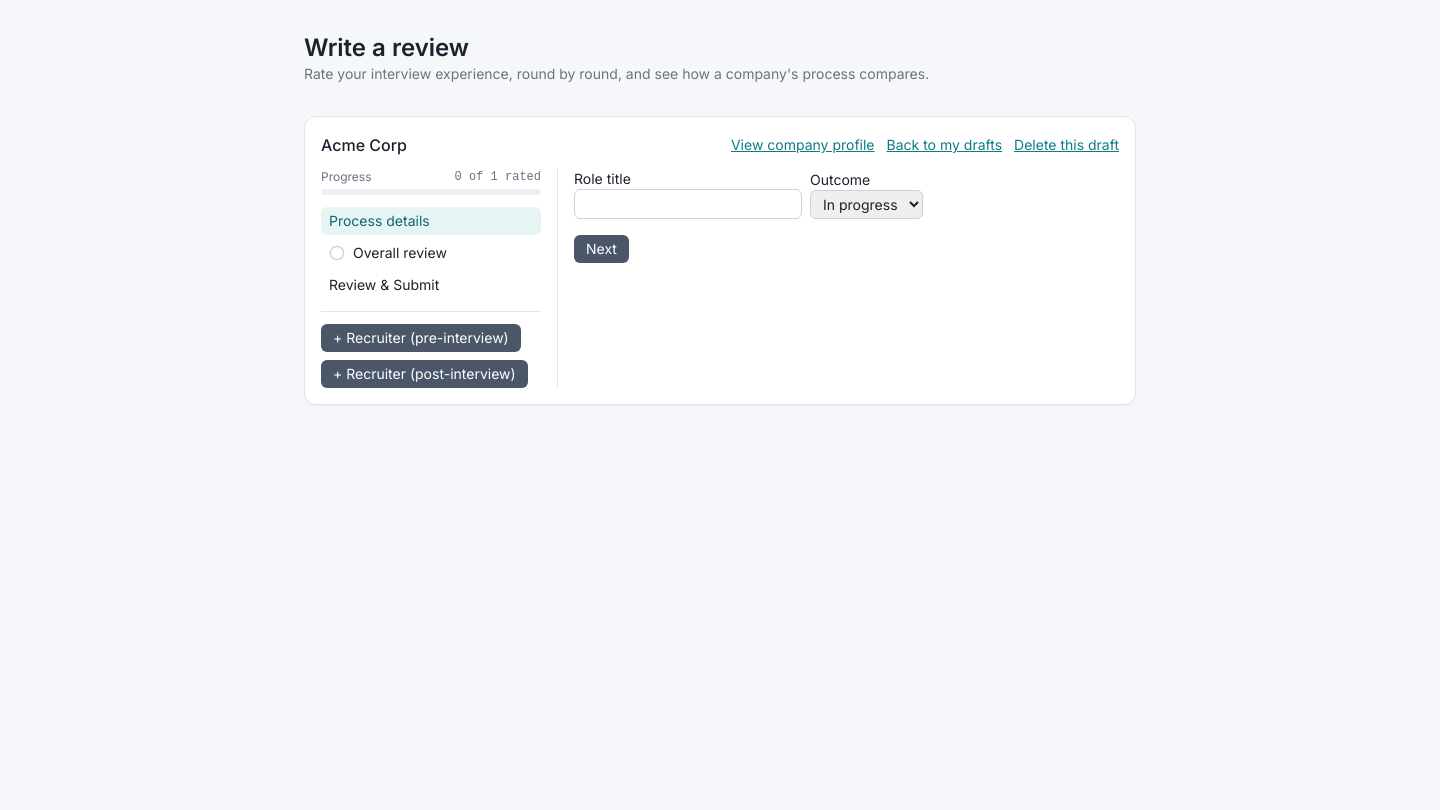
Test: Next-button add-round modal (GitHub issues #306, #319) › opens the modal from Process Details when no round exists yet, and "Add new round" creates one
Expected: the heading "Acme Corp" is shown, [321,133,407,157]
Step 1. Type "Backend Engineer" into the field labelled "Role title" → (688, 204), box [574,189,802,219]
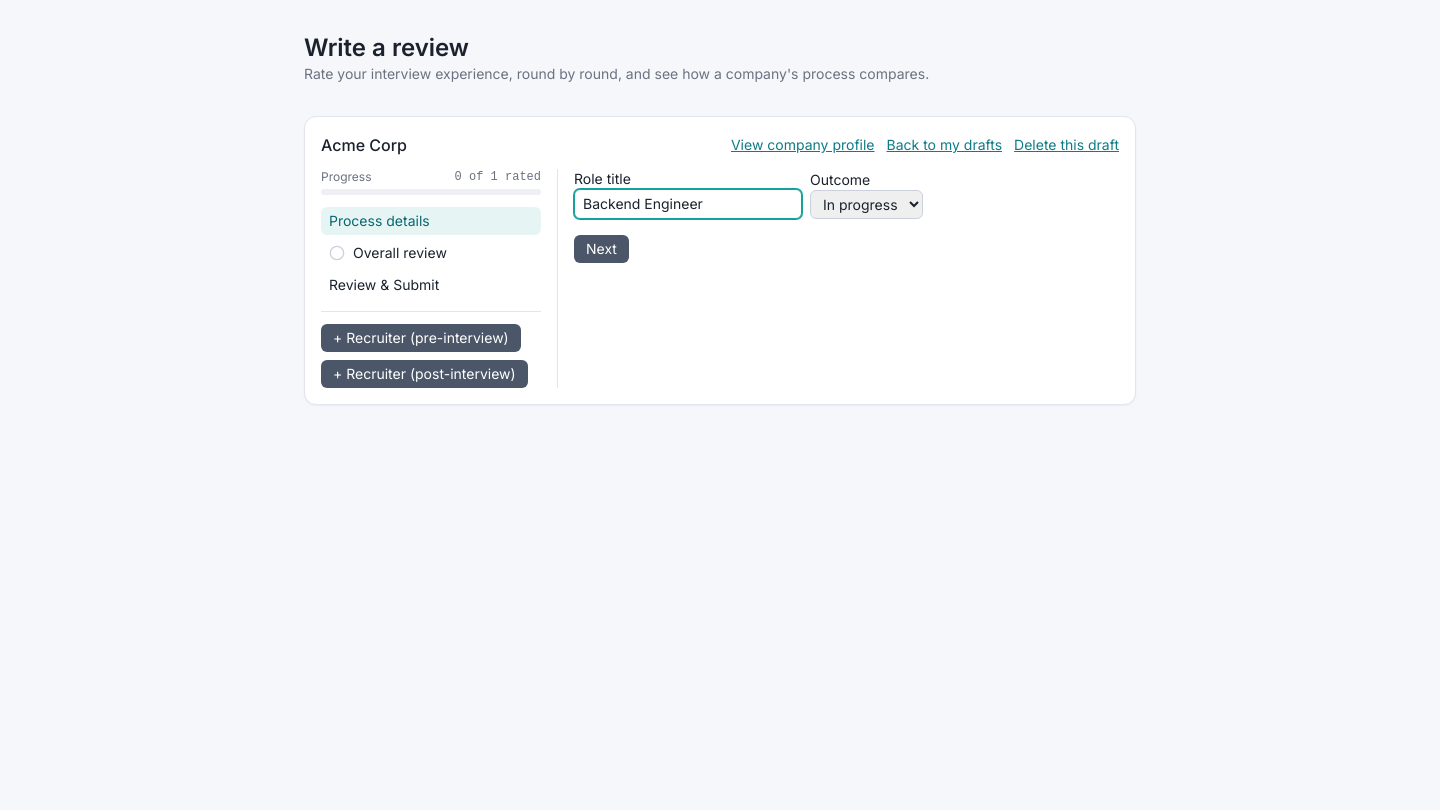
Step 2. Click the button "Next" → (601, 249), box [574,235,629,263]
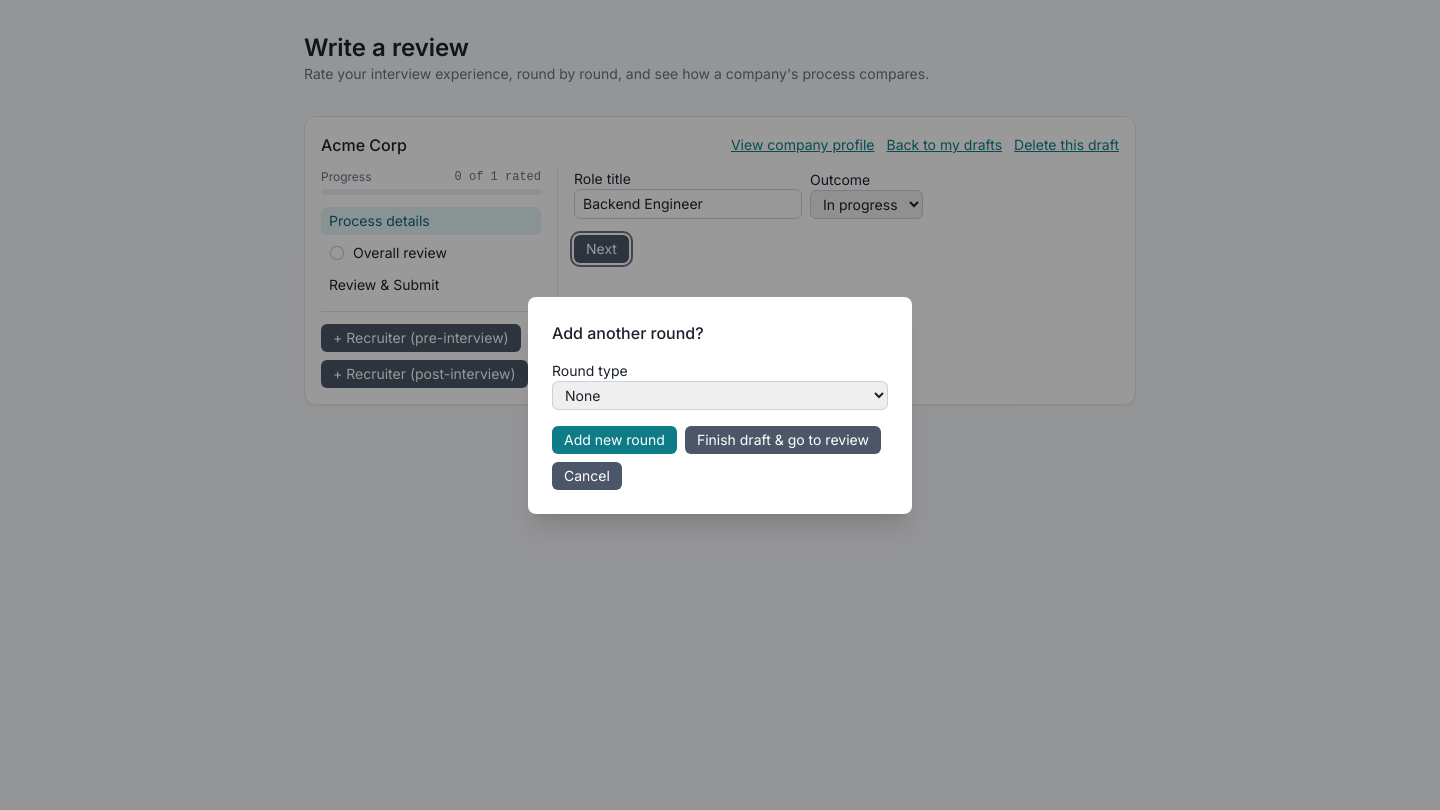
Step 3. Select "Coding" in the dropdown labelled "Round type" → (720, 395), box [552,380,888,410]
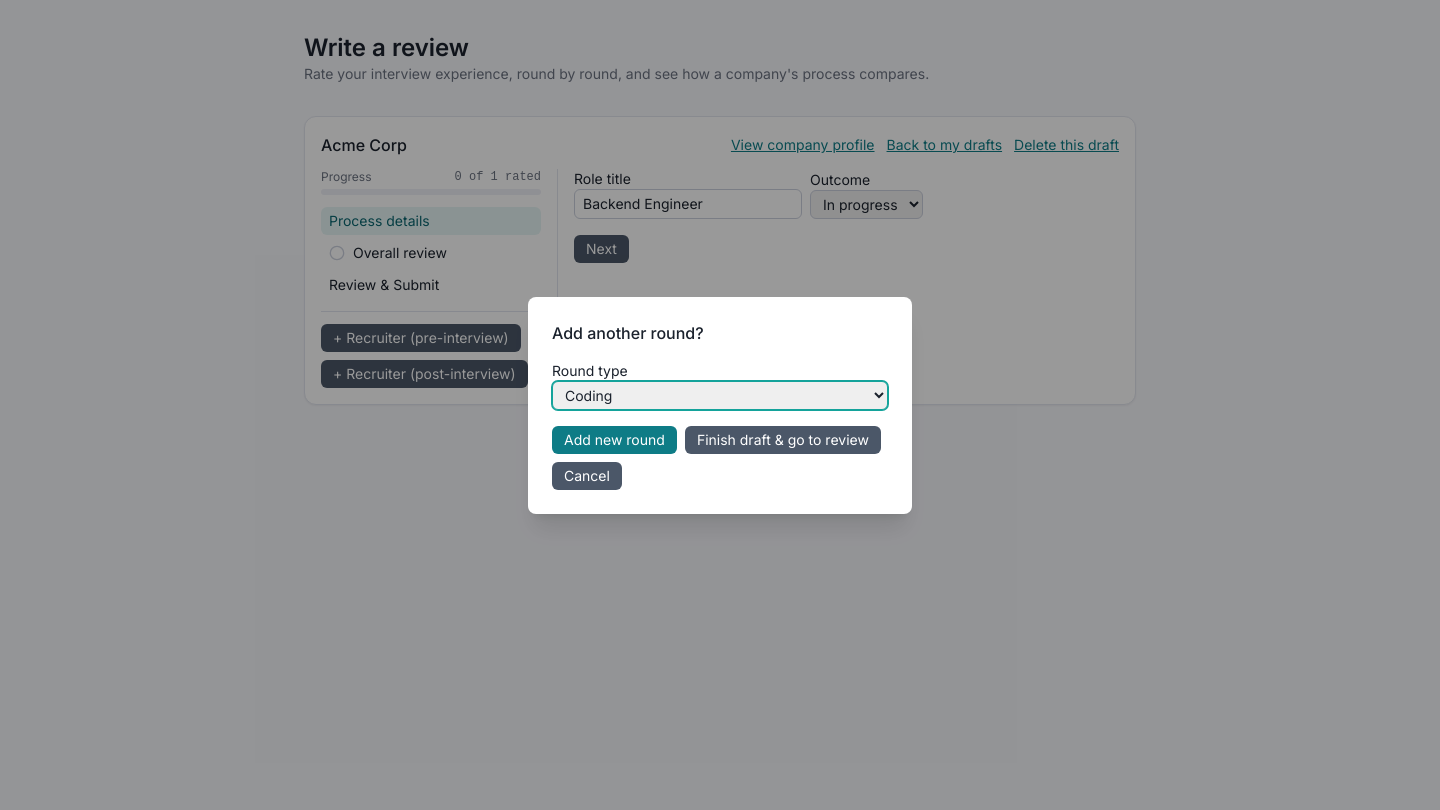
Step 4. Click the button "Add new round" → (614, 440), box [552,426,677,454]
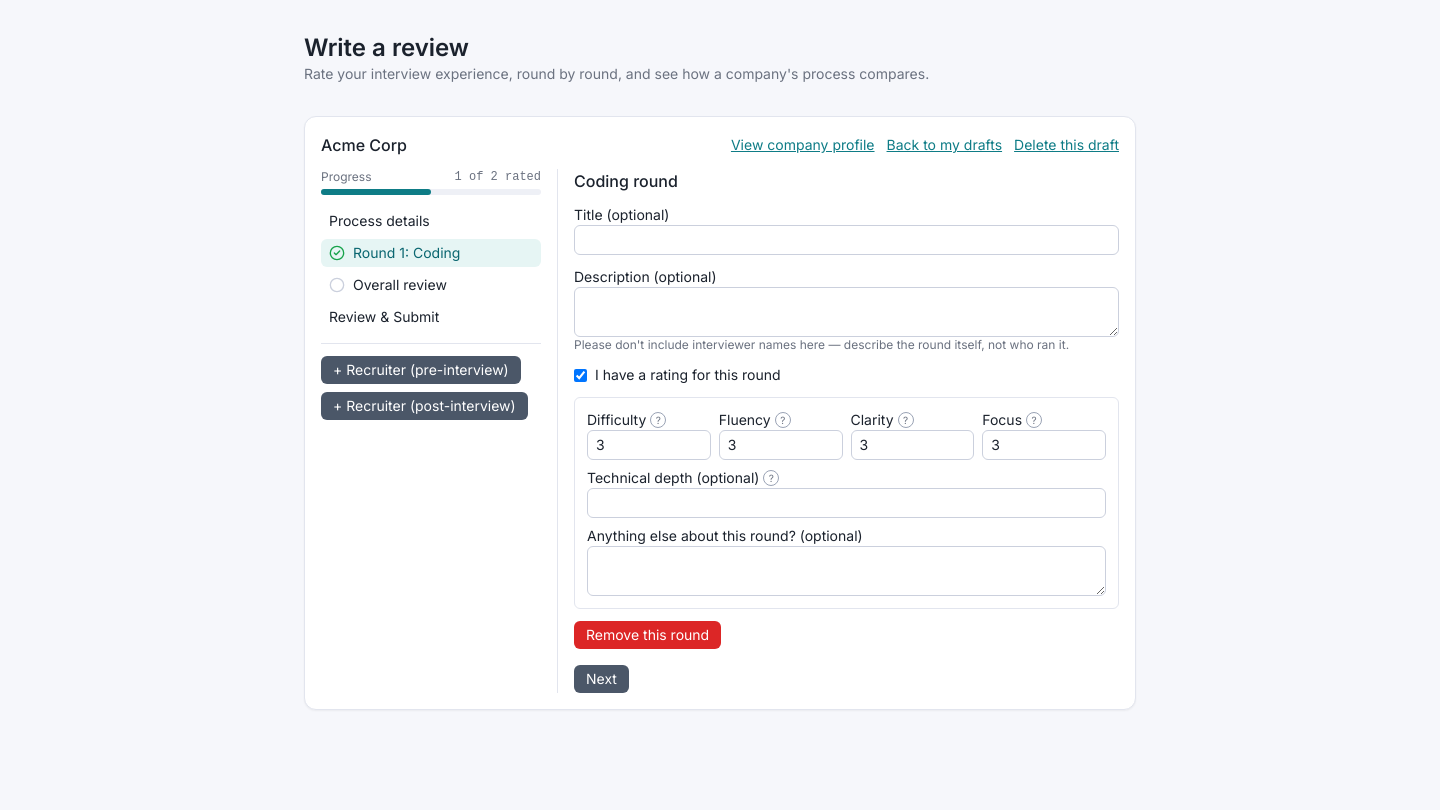
Expected: the dialog is gone
Expected: the heading "Coding round" is shown, [574,171,678,191]
